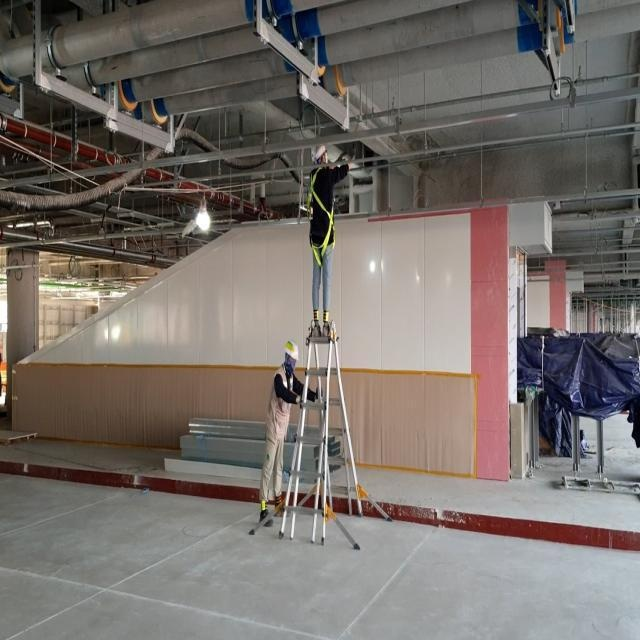Arnes_seguridad: (309, 168, 338, 264)
